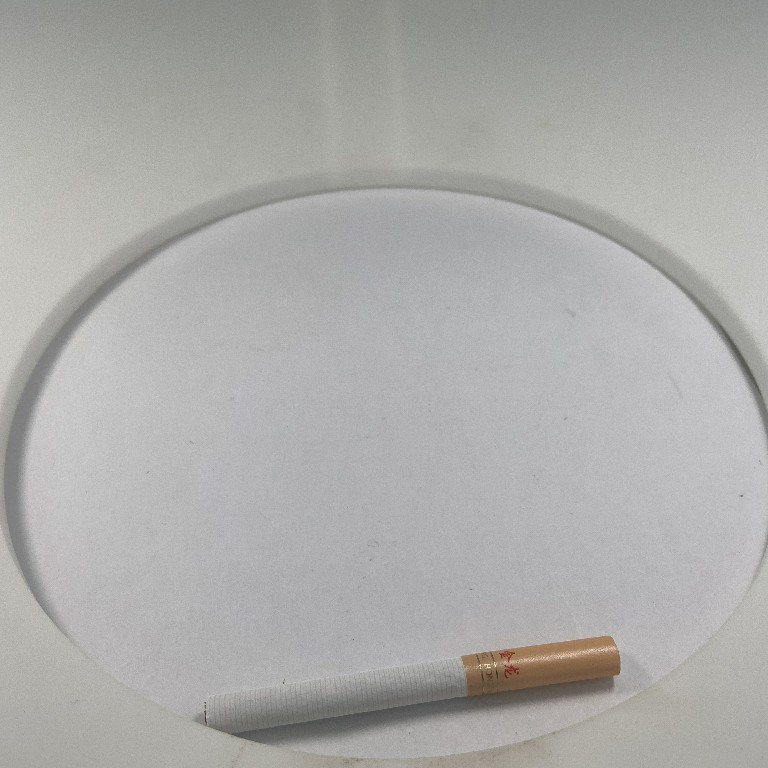cigarette: (199, 632, 624, 735)
